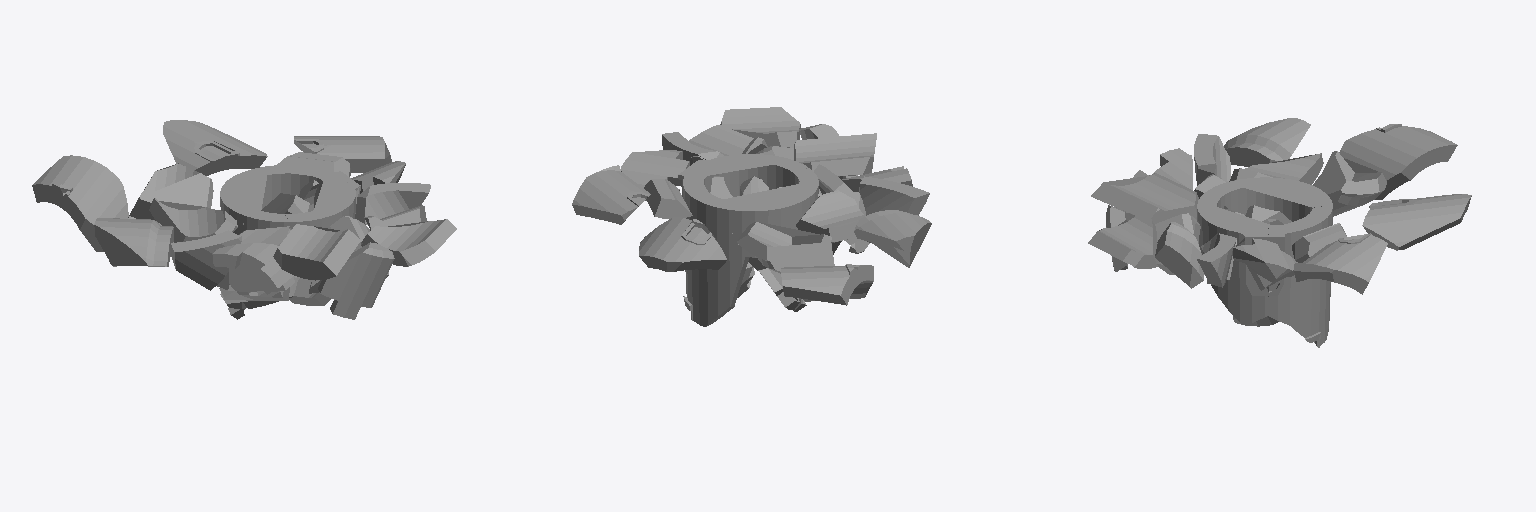
Rendered from destruction_tower_000086.obj.
3 renders of one model, left to right at view 1: azimuth 30°, elevation 25°; view 2: azimuth 150°, elevation 25°; view 3: azimuth 270°, elevation 25°, orthographic.
Parts seen in each view (by area): view 1: tower.001_cell.003_Mesh.003, tower.001_cell.025_Mesh.025, tower.001_cell.024_Mesh.024, tower.001_cell.005_Mesh.005, tower.001_cell.011_Mesh.011, tower.001_cell.006_Mesh.006, tower.001_cell.007_Mesh.007, tower.001_cell.021_Mesh.021, tower.001_cell.009_Mesh.009, tower.001_cell.012_Mesh.012, tower.001_cell.002_Mesh.002, tower.001_cell.010_Mesh.010 (+12 smaller); view 2: tower.001_cell.017_Mesh.017, tower.001_cell.025_Mesh.025, tower.001_cell.007_Mesh.007, tower.001_cell.015_Mesh.015, tower.001_cell.003_Mesh.003, tower.001_cell.012_Mesh.012, tower.001_cell.024_Mesh.024, tower.001_cell.005_Mesh.005, tower.001_cell.028_Mesh.028, tower.001_cell.021_Mesh.021, tower.001_cell.009_Mesh.009, tower.001_cell.002_Mesh.002 (+7 smaller); view 3: tower.001_cell.003_Mesh.003, tower.001_cell.025_Mesh.025, tower.001_cell.024_Mesh.024, tower.001_cell.017_Mesh.017, tower.001_cell.012_Mesh.012, tower.001_cell.005_Mesh.005, tower.001_cell.007_Mesh.007, tower.001_cell.015_Mesh.015, tower.001_cell.021_Mesh.021, tower.001_cell.020_Mesh.020, tower.001_cell.028_Mesh.028, tower.001_cell_Mesh (+10 smaller).
Boxes of the visible parts, x1=… form: tower.001_cell.003_Mesh.003: x1=32, y1=155, x2=128, y2=251; tower.001_cell.025_Mesh.025: x1=163, y1=120, x2=267, y2=175; tower.001_cell.024_Mesh.024: x1=273, y1=224, x2=360, y2=280; tower.001_cell.005_Mesh.005: x1=94, y1=218, x2=173, y2=266; tower.001_cell.011_Mesh.011: x1=318, y1=242, x2=394, y2=319; tower.001_cell.006_Mesh.006: x1=212, y1=243, x2=294, y2=294; tower.001_cell.007_Mesh.007: x1=128, y1=163, x2=213, y2=242; tower.001_cell.021_Mesh.021: x1=361, y1=219, x2=456, y2=266; tower.001_cell.009_Mesh.009: x1=149, y1=198, x2=237, y2=242; tower.001_cell.012_Mesh.012: x1=294, y1=136, x2=391, y2=172; tower.001_cell.002_Mesh.002: x1=171, y1=230, x2=241, y2=290; tower.001_cell.010_Mesh.010: x1=355, y1=183, x2=430, y2=224; tower.001_cell.017_Mesh.017: x1=683, y1=178, x2=749, y2=326; tower.001_cell.025_Mesh.025: x1=639, y1=217, x2=726, y2=271; tower.001_cell.007_Mesh.007: x1=737, y1=222, x2=834, y2=273; tower.001_cell.015_Mesh.015: x1=720, y1=184, x2=816, y2=257; tower.001_cell.003_Mesh.003: x1=781, y1=264, x2=873, y2=305; tower.001_cell.012_Mesh.012: x1=572, y1=165, x2=650, y2=224; tower.001_cell.024_Mesh.024: x1=794, y1=133, x2=876, y2=176; tower.001_cell.005_Mesh.005: x1=854, y1=210, x2=931, y2=267; tower.001_cell.028_Mesh.028: x1=698, y1=154, x2=807, y2=196; tower.001_cell.021_Mesh.021: x1=720, y1=107, x2=800, y2=147; tower.001_cell.009_Mesh.009: x1=796, y1=190, x2=864, y2=242; tower.001_cell.002_Mesh.002: x1=859, y1=176, x2=929, y2=242; tower.001_cell.003_Mesh.003: x1=1339, y1=124, x2=1457, y2=199; tower.001_cell.025_Mesh.025: x1=1362, y1=194, x2=1471, y2=250; tower.001_cell.024_Mesh.024: x1=1091, y1=173, x2=1198, y2=223; tower.001_cell.017_Mesh.017: x1=1290, y1=205, x2=1332, y2=347; tower.001_cell.012_Mesh.012: x1=1294, y1=233, x2=1387, y2=294; tower.001_cell.005_Mesh.005: x1=1224, y1=118, x2=1310, y2=166; tower.001_cell.007_Mesh.007: x1=1313, y1=151, x2=1386, y2=216; tower.001_cell.015_Mesh.015: x1=1243, y1=177, x2=1332, y2=221; tower.001_cell.021_Mesh.021: x1=1088, y1=213, x2=1157, y2=268; tower.001_cell.020_Mesh.020: x1=1211, y1=232, x2=1270, y2=324; tower.001_cell.028_Mesh.028: x1=1197, y1=193, x2=1271, y2=254; tower.001_cell_Mesh: x1=1155, y1=222, x2=1204, y2=288.
Bounding box in the file's own units: 112 × 44.47 × 121.